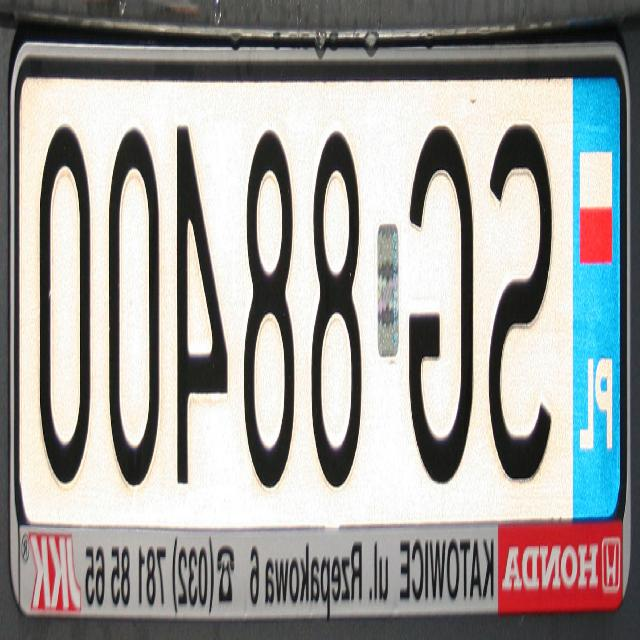pl_license_plate: (16, 62, 624, 525)
